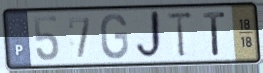5: (32, 15, 61, 63)
7: (67, 16, 92, 59)
G: (99, 13, 130, 62)
J: (133, 9, 165, 63)
T: (166, 10, 195, 60), (201, 10, 227, 58)
